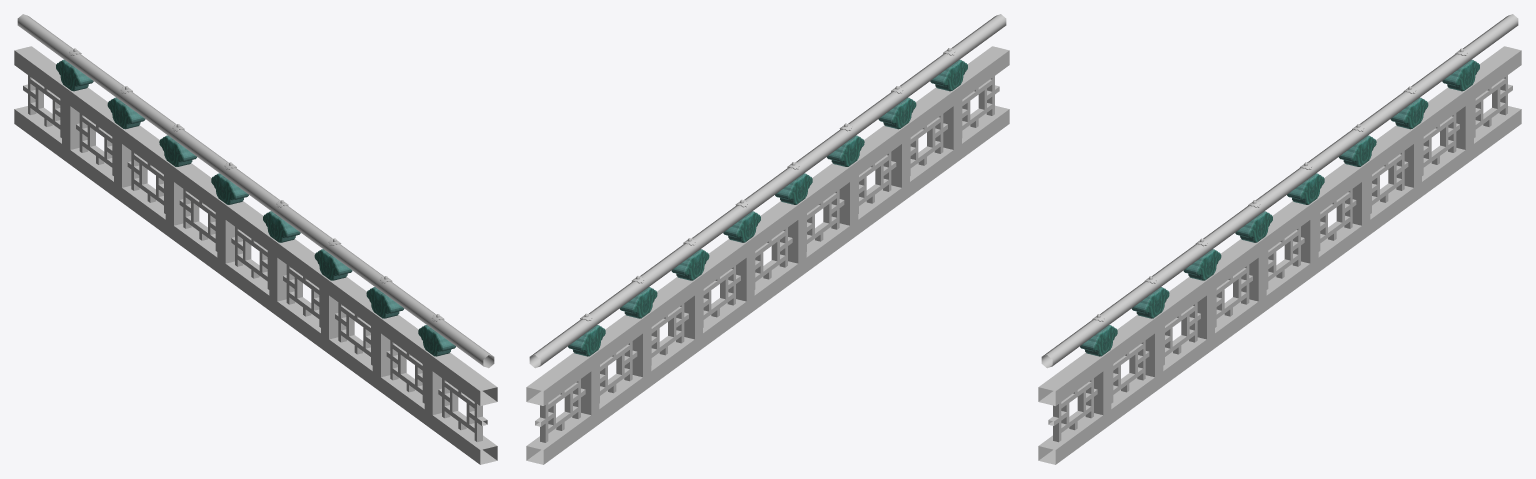
The model's file is SM_Handrail01H.fbx.
3 renders of one model, left to right at view 1: azimuth 30°, elevation 25°; view 2: azimuth 150°, elevation 25°; view 3: azimuth 330°, elevation 25°, orthographic.
Visible parts, largest first — view 1: SM_Handrail01H; view 2: SM_Handrail01H; view 3: SM_Handrail01H.
Part boxes in pixels (<box>): SM_Handrail01H: <box>14,14,497,464</box>; SM_Handrail01H: <box>526,14,1009,464</box>; SM_Handrail01H: <box>1038,14,1521,464</box>.
Bounding box in the file's own units: 6.27 × 295 × 38.84.
